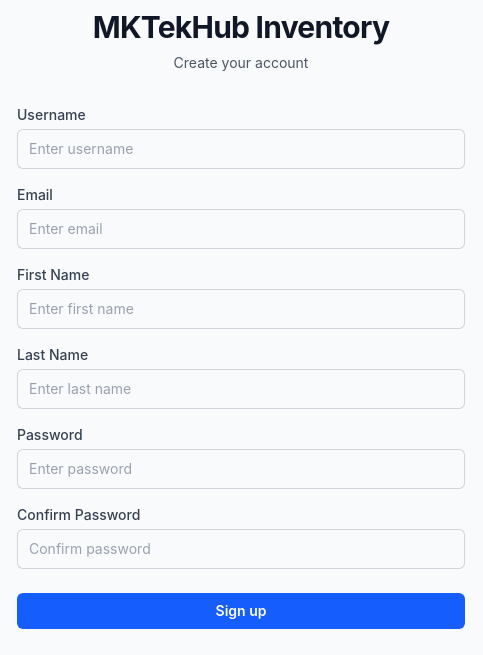
Scenario: SignupPage › Form Submission - Success › should show success message on successful signup
This screenshot has width=483, height=655.
Type "newuser" into the field with placeholder "Enter username" at coordinates (241, 149), box [17,129,465,169]
Type "new@example.com" into the field with placeholder "Enter email" at coordinates (241, 229), box [17,209,465,249]
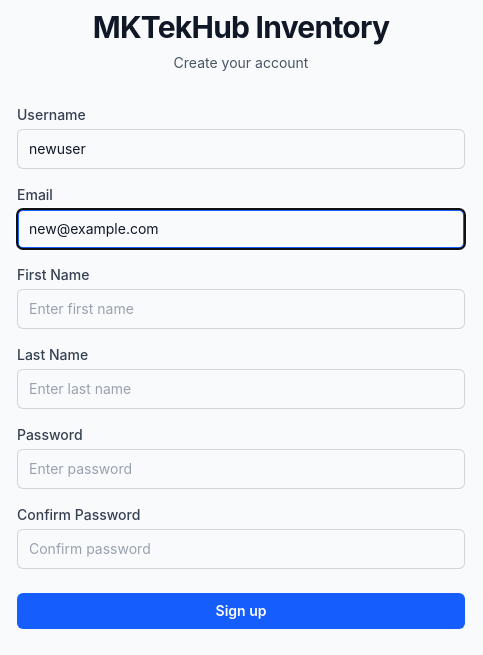
Type "Jane" into the field with placeholder "Enter first name" at coordinates (241, 309), box [17,289,465,329]
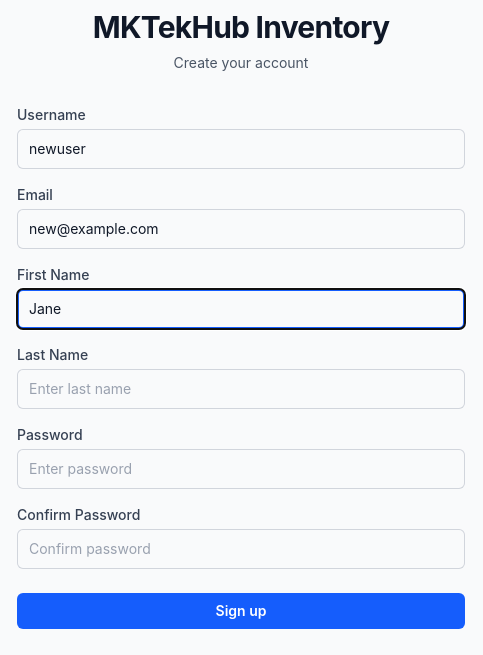
Type "Smith" into the field with placeholder "Enter last name" at coordinates (241, 389), box [17,369,465,409]
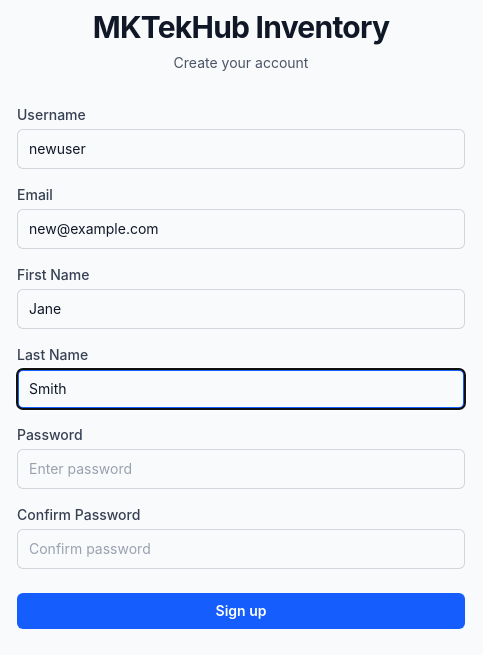
Type "password123" into the password field with placeholder "Enter password" at coordinates (241, 469), box [17,449,465,489]
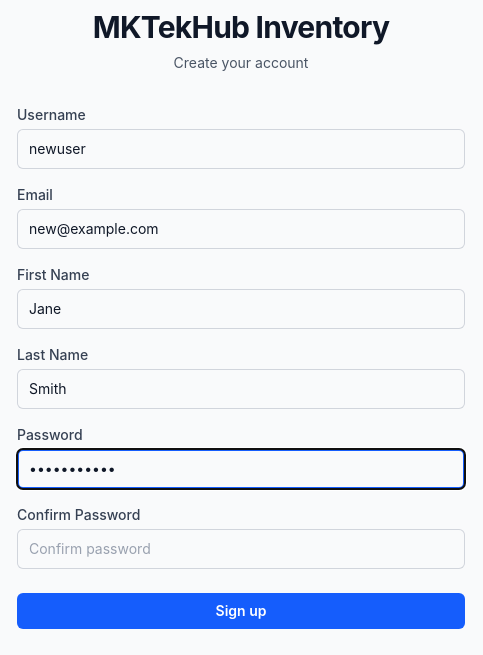
Type "password123" into the password field with placeholder "Confirm Password" at coordinates (241, 549), box [17,529,465,569]
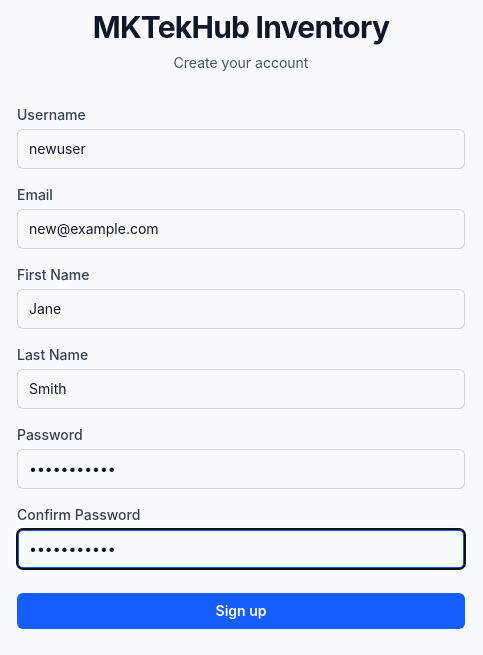
Click the button "Sign up" at coordinates (241, 611), box [17,593,465,629]
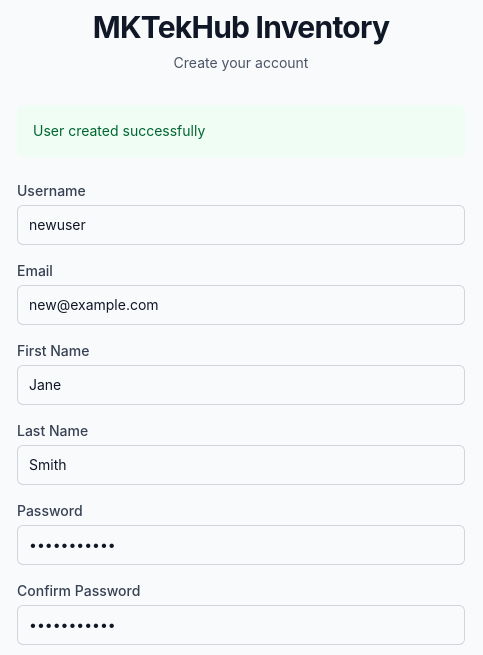
Expected: the text "User created successfully" is shown, [33,122,205,139]
